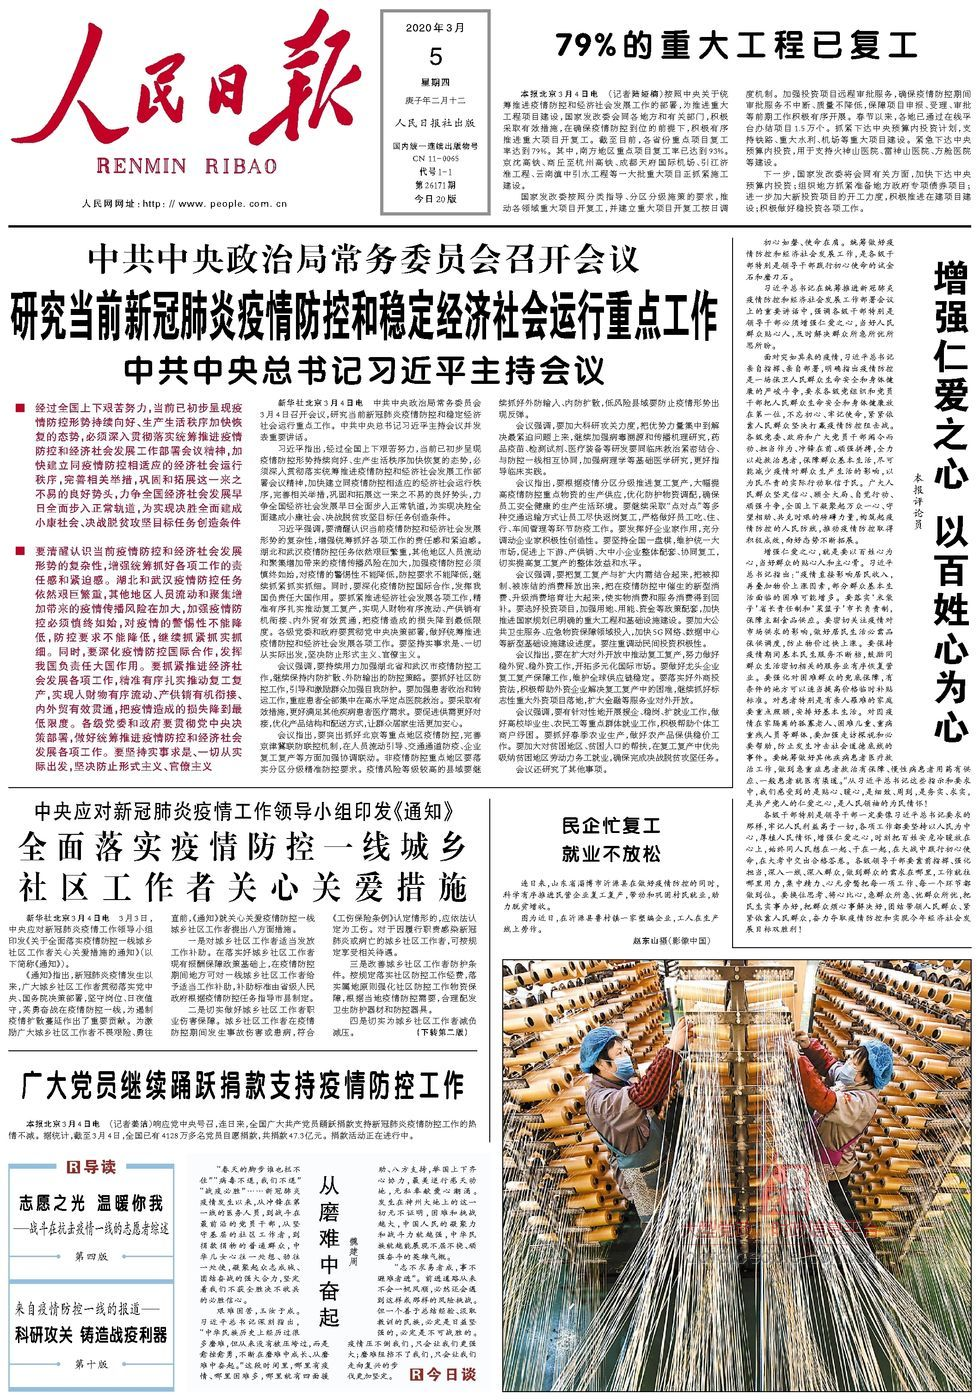pic: (497, 953, 977, 1397)
